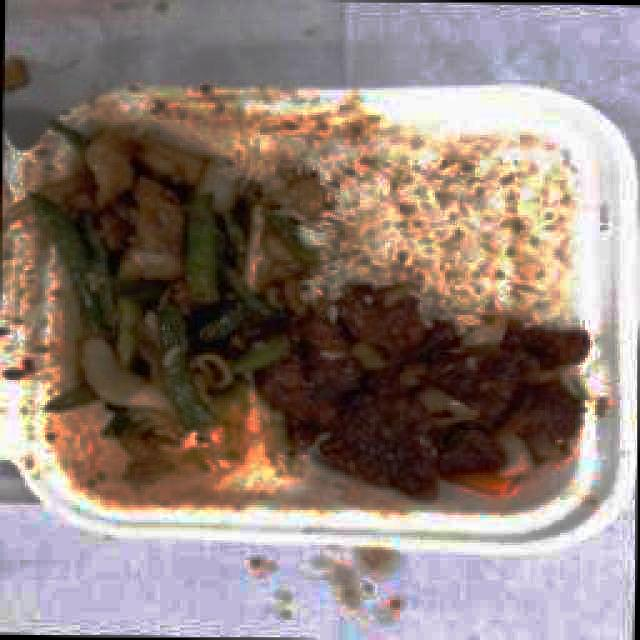Beijing Beef: (275, 283, 440, 505), (447, 326, 585, 490)
String Bean Chicken Breast: (45, 120, 278, 406)
rice: (337, 192, 574, 302), (322, 139, 559, 188), (311, 228, 353, 282)
